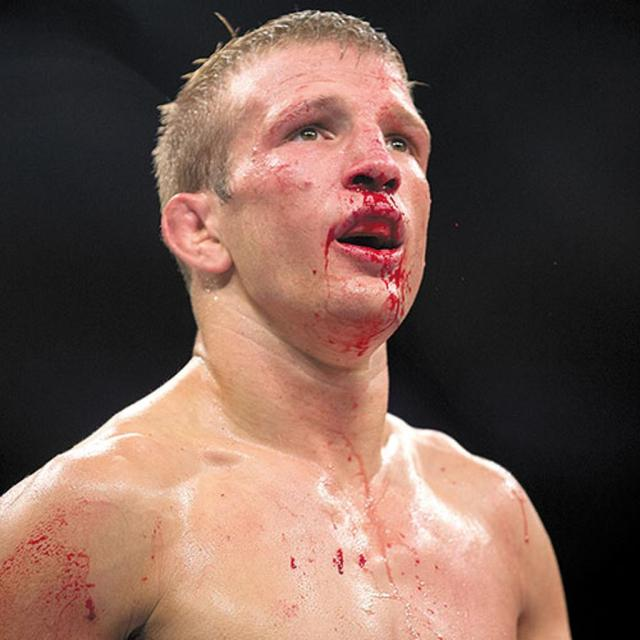Face: (223, 38, 446, 337)
